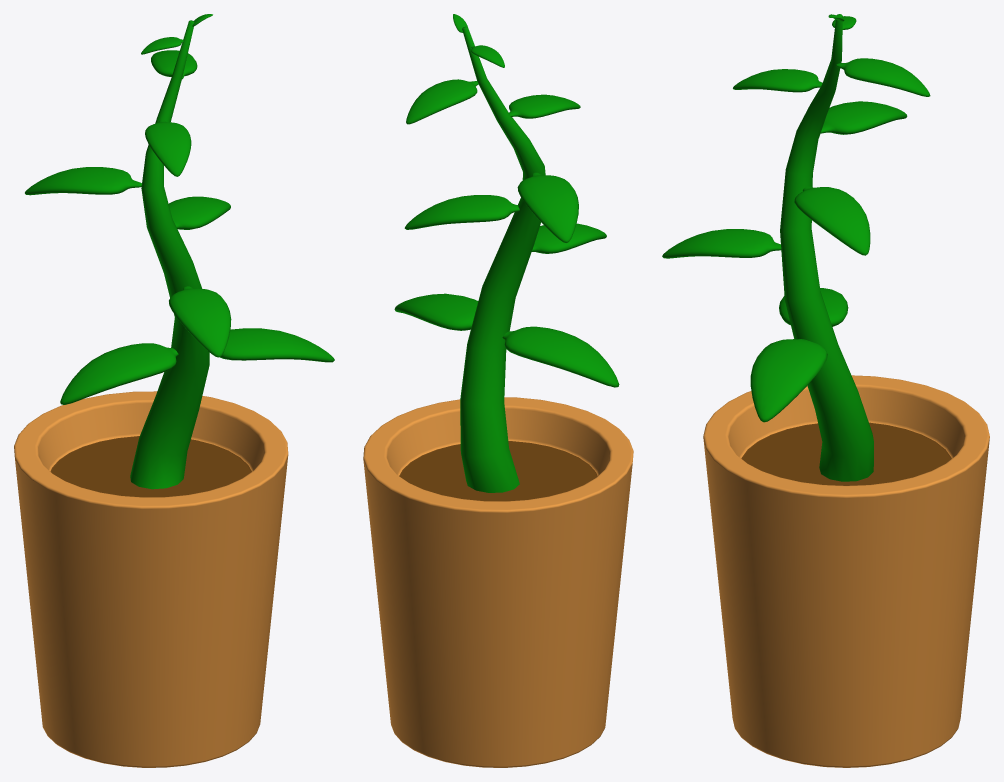
File: Plant.fbx
3 views of the same model, side by side, from view 1: azimuth 30°, elevation 25°; view 2: azimuth 150°, elevation 25°; view 3: azimuth 270°, elevation 25° (orthographic). The views are drawn at different scales.
Visible parts, largest first — view 1: Plant; view 2: Plant; view 3: Plant.
Part boxes in pixels (x1,y1,x2,y2): Plant: (14, 14, 334, 767); Plant: (363, 14, 633, 767); Plant: (662, 14, 989, 767).
Bounding box in the file's own units: 221 × 562 × 228.
